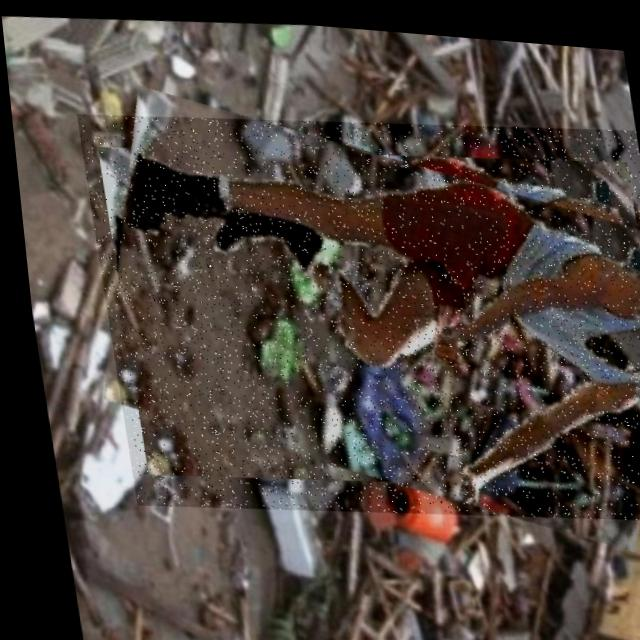Person in Rubble: (70, 83, 640, 539)
